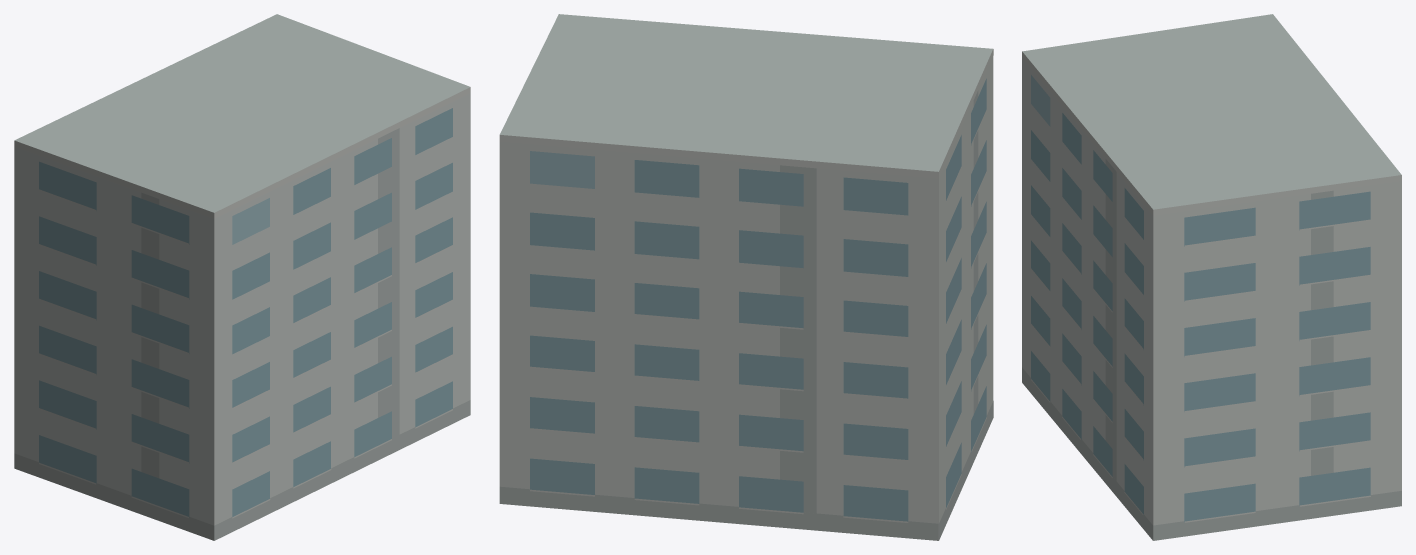
File: survey-upis-32890827.glb
The picture shows the model from 3 angles, left to right: view 1: azimuth 30°, elevation 25°; view 2: azimuth 150°, elevation 25°; view 3: azimuth 270°, elevation 25°; orthographic projection. The views are drawn at different scales.
Visible parts, largest first — view 1: survey-upis-32890827.tmp; view 2: survey-upis-32890827.tmp; view 3: survey-upis-32890827.tmp.
Boxes of the visible parts, x1,y1,x2,y2 form: survey-upis-32890827.tmp: [14, 14, 470, 540]; survey-upis-32890827.tmp: [499, 14, 993, 540]; survey-upis-32890827.tmp: [1022, 14, 1401, 540].
Bounding box in the file's own units: 16.61 × 13.1 × 13.62.
